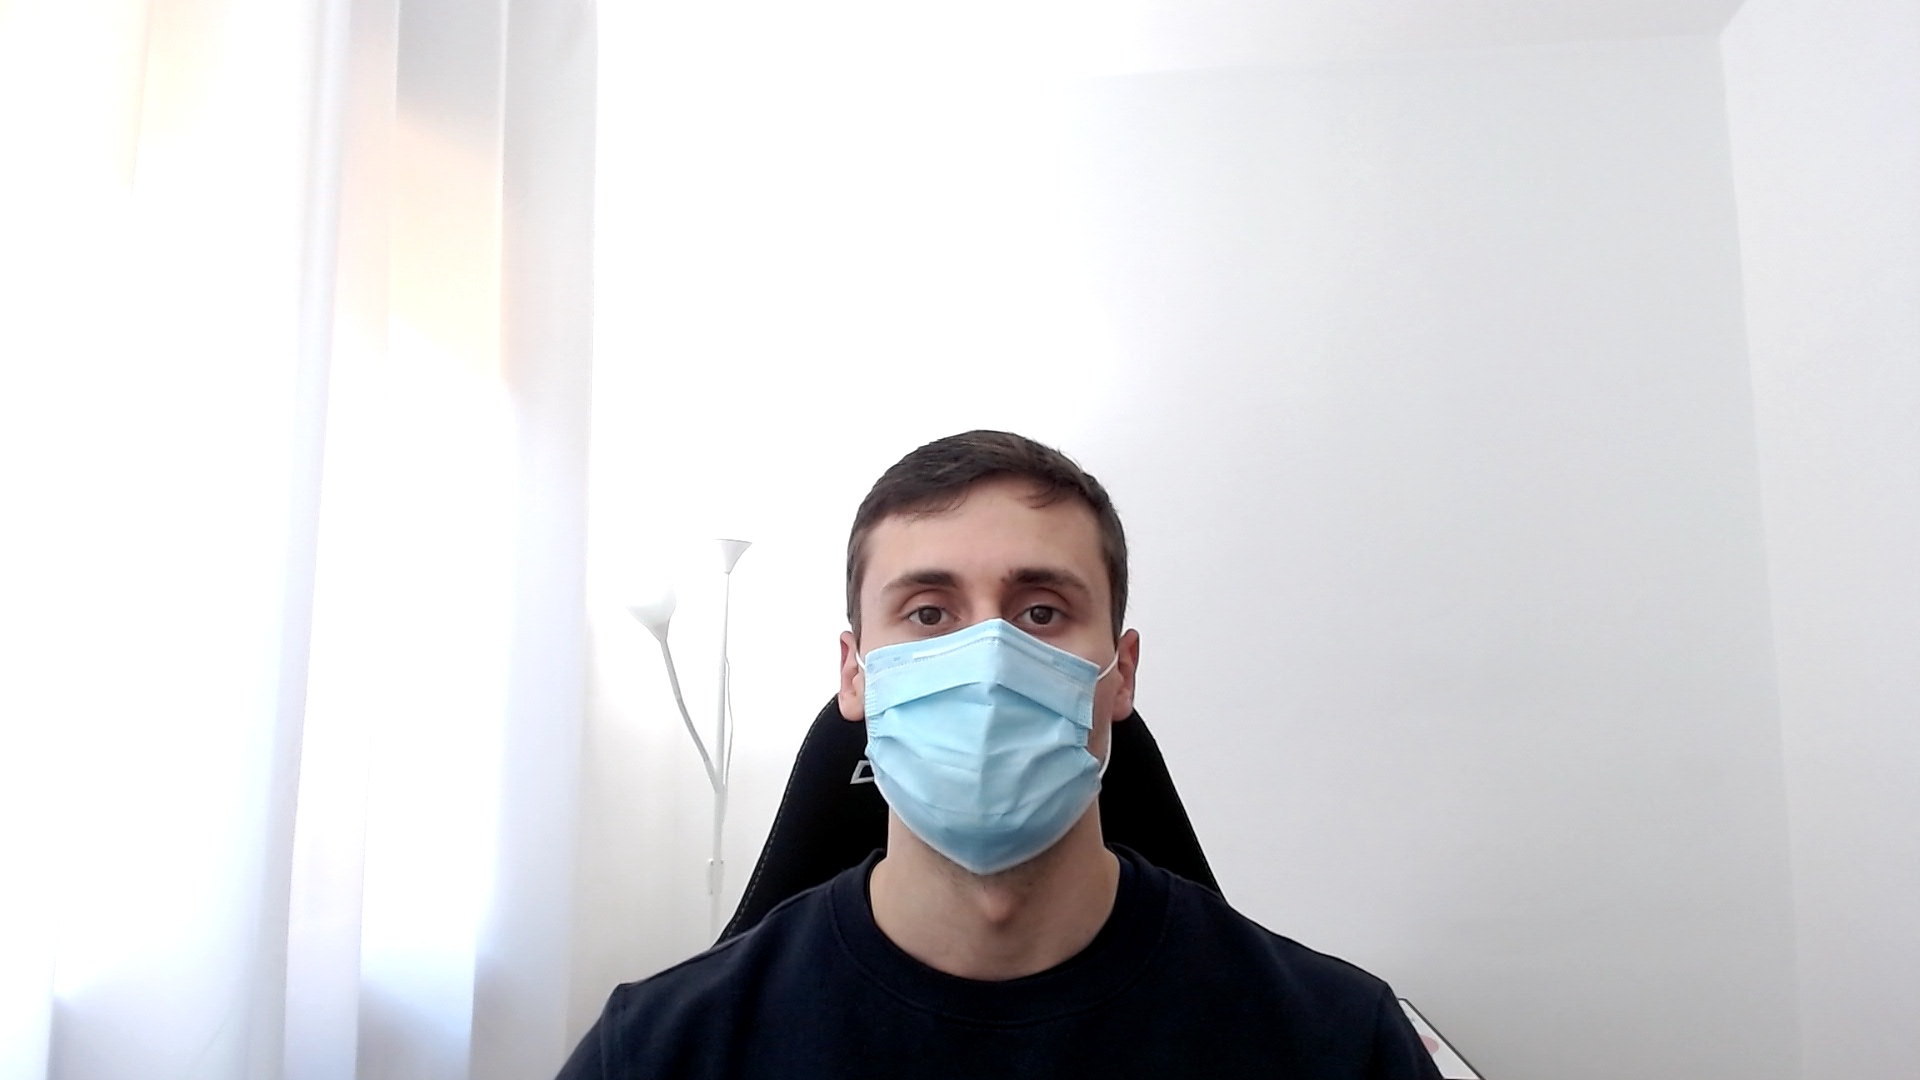Mask: (843, 433, 1142, 880)
